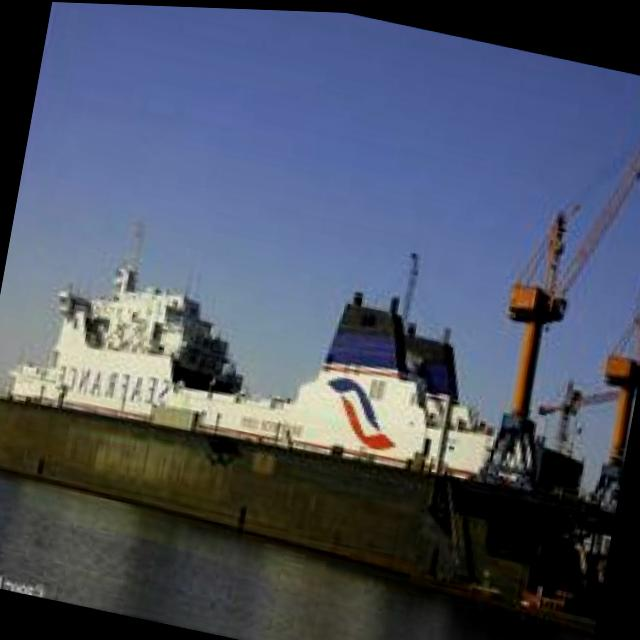ship2: (0, 221, 600, 596)
